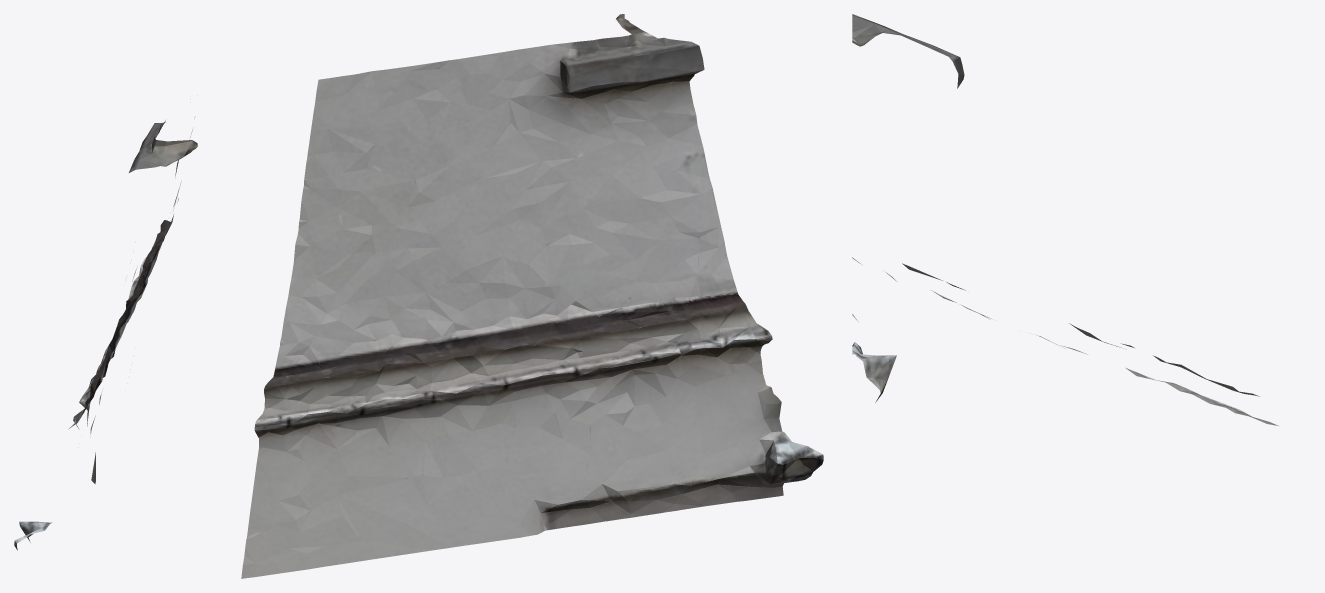
The picture shows the model from 3 angles, left to right: view 1: azimuth 30°, elevation 25°; view 2: azimuth 150°, elevation 25°; view 3: azimuth 270°, elevation 25°; orthographic projection. The views are drawn at different scales.
Bounding box in the file's own units: 1.43 × 1.67 × 1.52.
3 materials, 3 textured.
